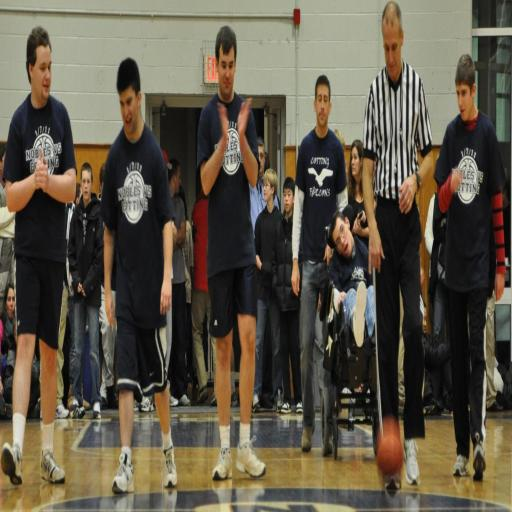person: (2, 27, 76, 484), (363, 2, 432, 484), (101, 59, 177, 493), (197, 26, 265, 479), (435, 55, 505, 480), (292, 75, 347, 452), (68, 162, 103, 419), (252, 169, 283, 412), (273, 177, 302, 414), (329, 205, 375, 346), (168, 159, 190, 406), (192, 190, 210, 404), (179, 186, 193, 381), (100, 273, 118, 408), (348, 140, 369, 248), (250, 137, 269, 230)
